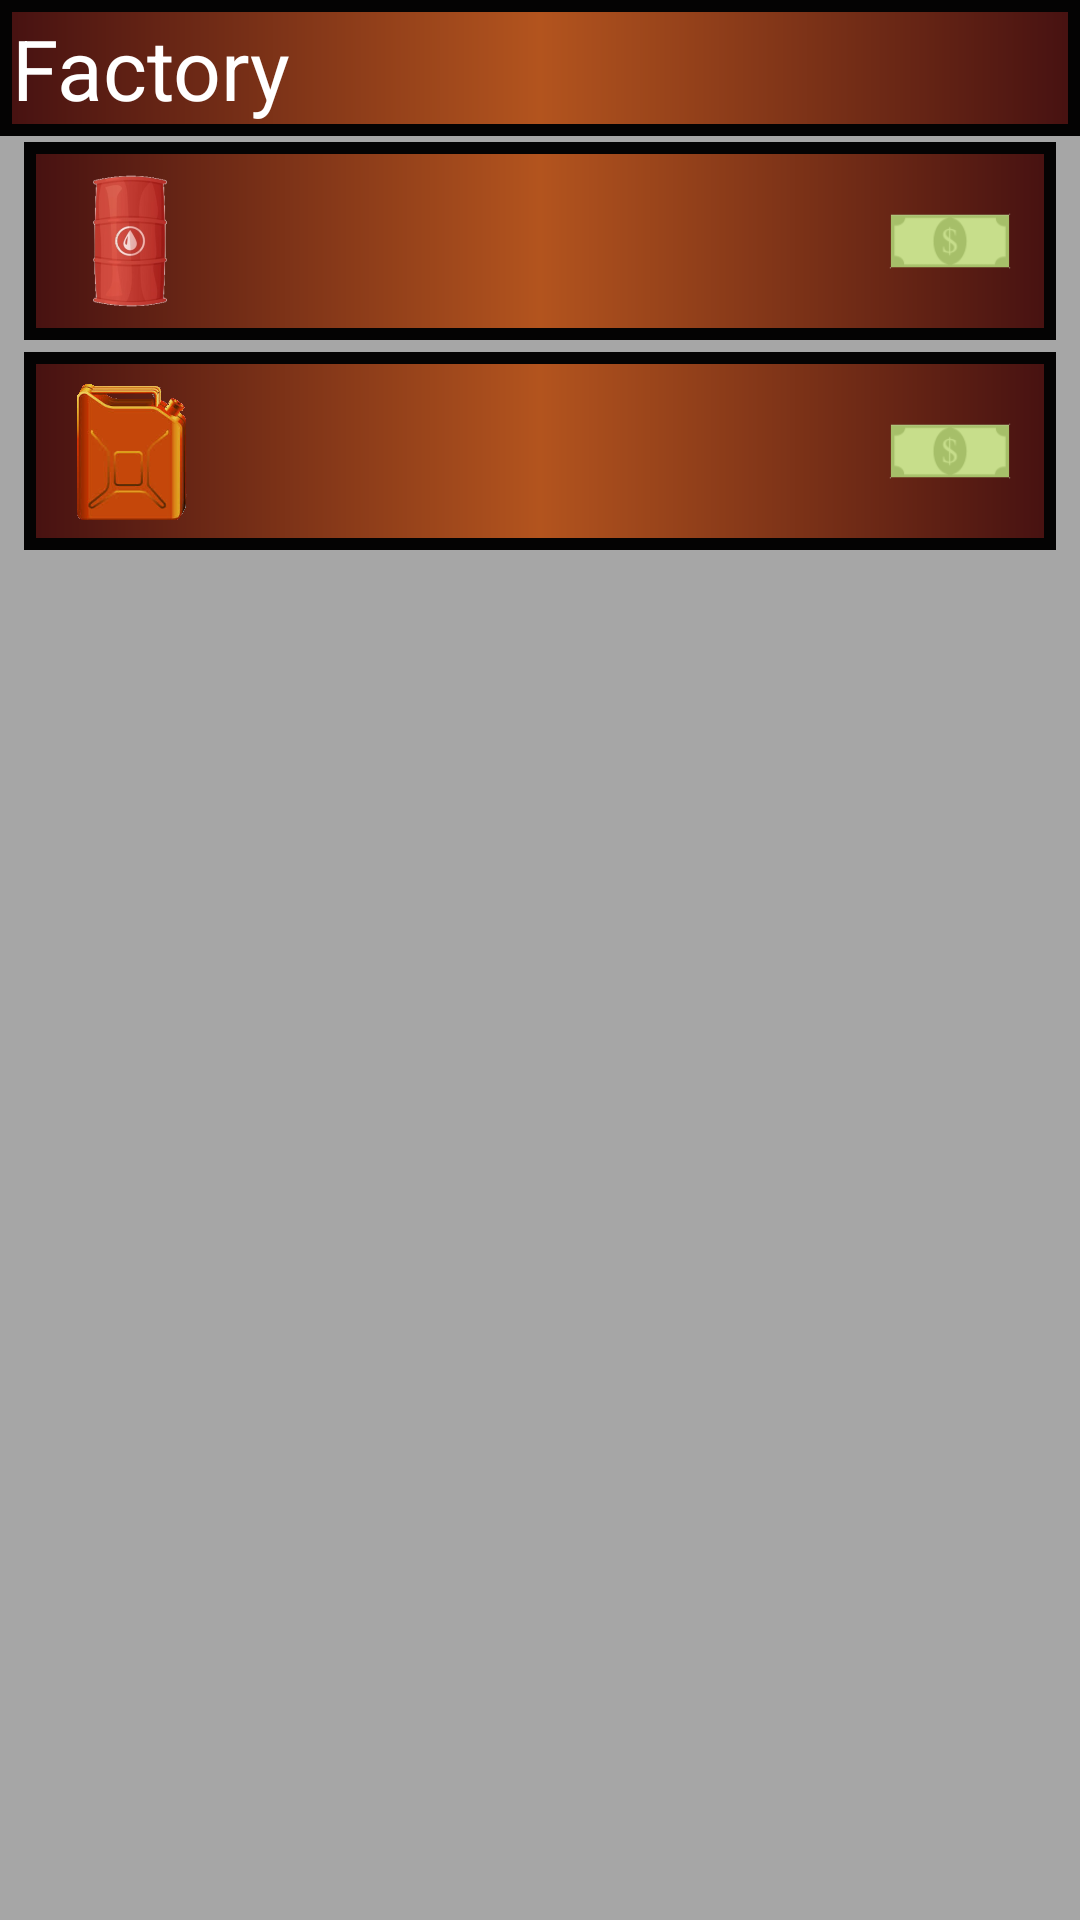

Locate icon controls on the screen. Image size 1080 x 1920, boxes as (x1, y1, x2, y2).
gas: (77, 376, 212, 526)
oil barrel: (93, 166, 212, 316)
